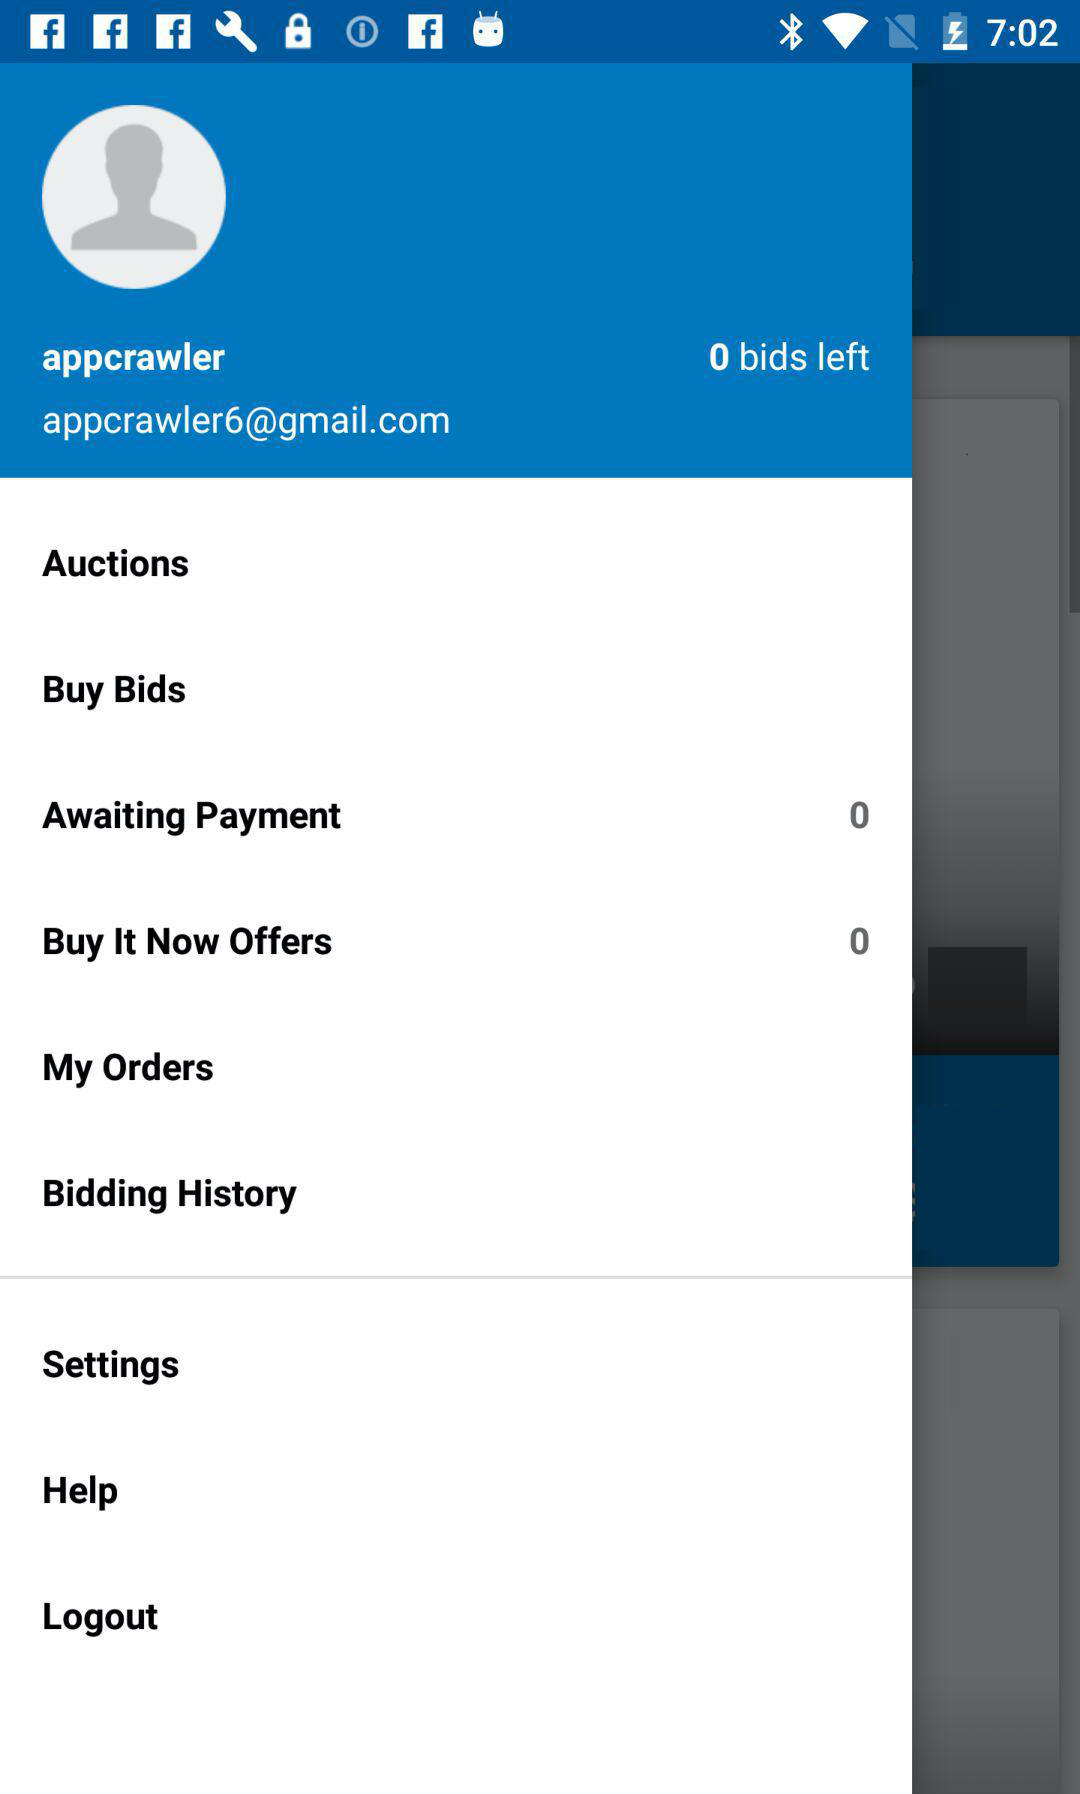Drawer: (1, 64, 913, 1794)
Icon: (41, 105, 228, 291)
Text: (44, 404, 450, 443), (42, 800, 343, 838), (44, 925, 333, 964), (44, 1178, 299, 1215), (44, 341, 227, 381), (44, 1051, 215, 1090), (44, 673, 187, 712), (708, 340, 871, 374), (44, 1349, 179, 1387), (42, 548, 190, 578), (44, 1602, 160, 1638), (44, 1474, 119, 1512), (849, 800, 870, 830), (849, 926, 870, 956)
UpperTaskBar: (1, 1, 1080, 64)
